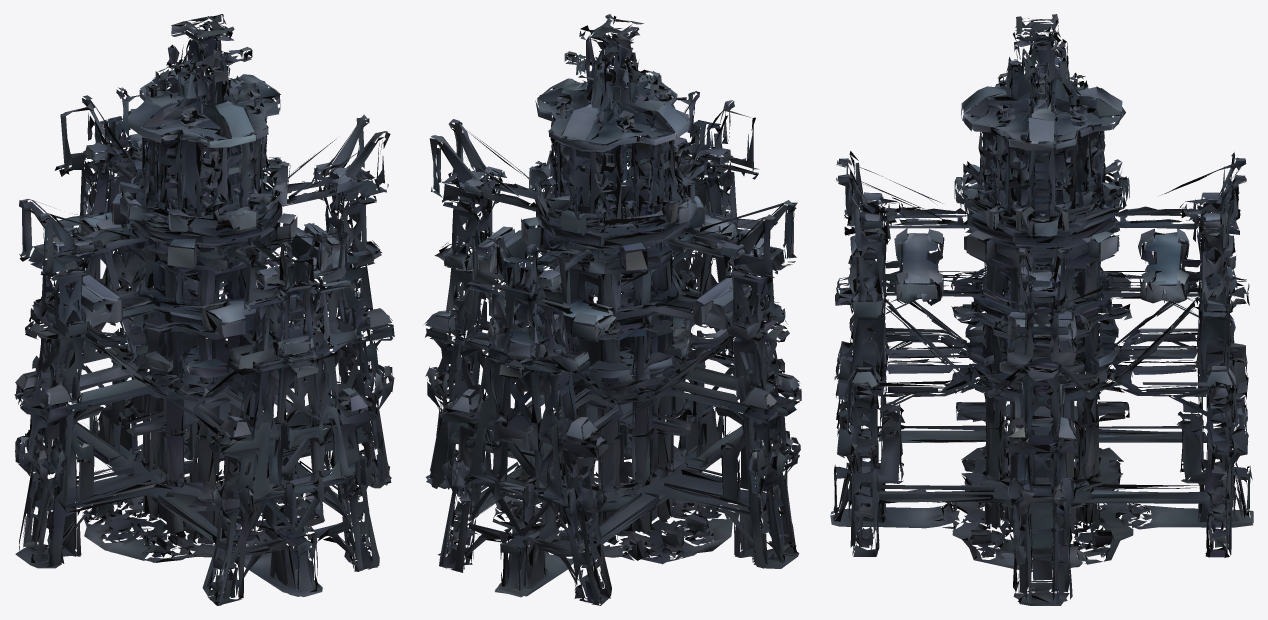
The model's file is fondor-gantry.glb.
3 renders of one model, left to right at view 1: azimuth 30°, elevation 25°; view 2: azimuth 150°, elevation 25°; view 3: azimuth 270°, elevation 25°, orthographic.
Visible parts, largest first — view 1: low; view 2: low; view 3: low.
Part boxes in pixels (x1,y1,x2,y2): low: (14, 14, 394, 605); low: (424, 14, 801, 605); low: (830, 14, 1253, 605).
Bounding box in the file's own units: 0.7411 × 0.97 × 0.7482.
Materials: 1 (1 with a texture image).
